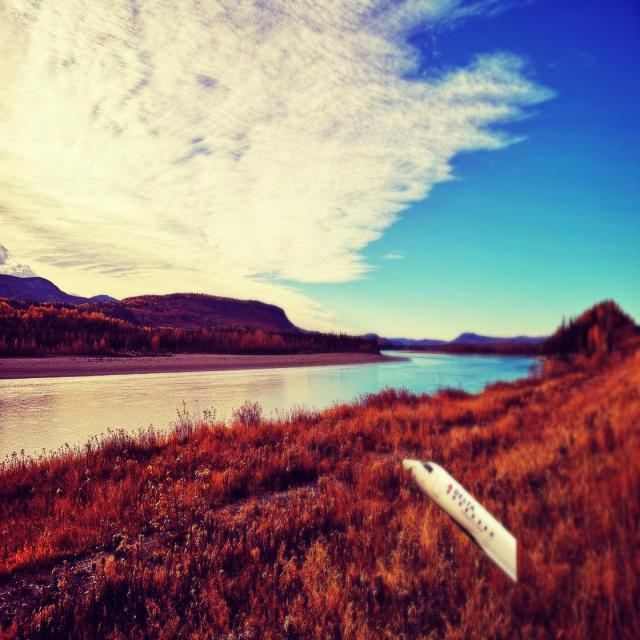airplane: (401, 458, 518, 584)
